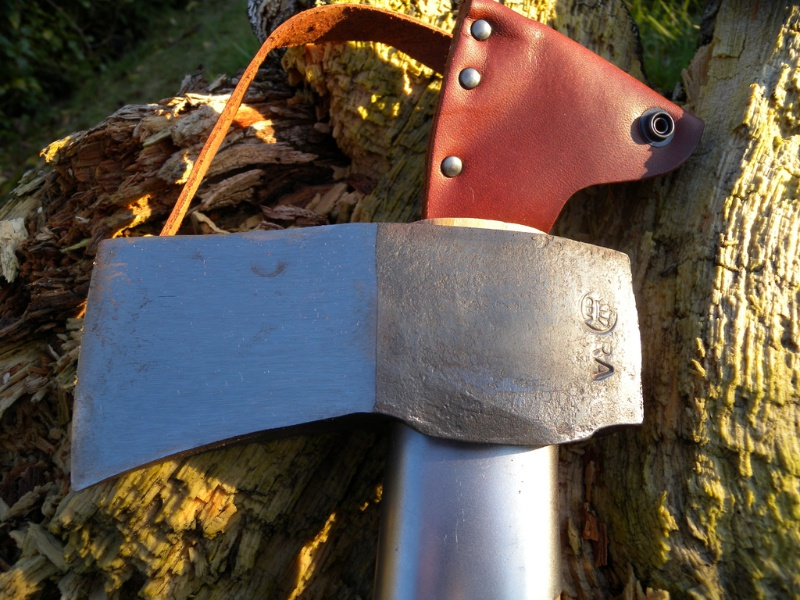axe: (64, 219, 652, 593)
